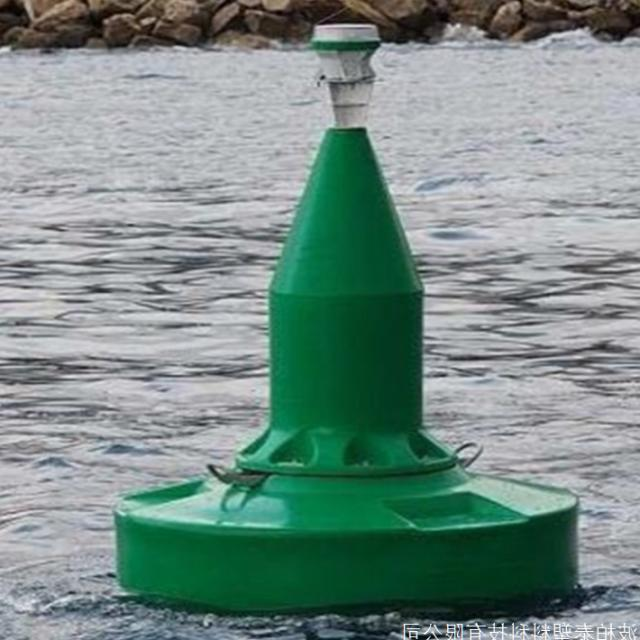buoy: (107, 18, 582, 616)
